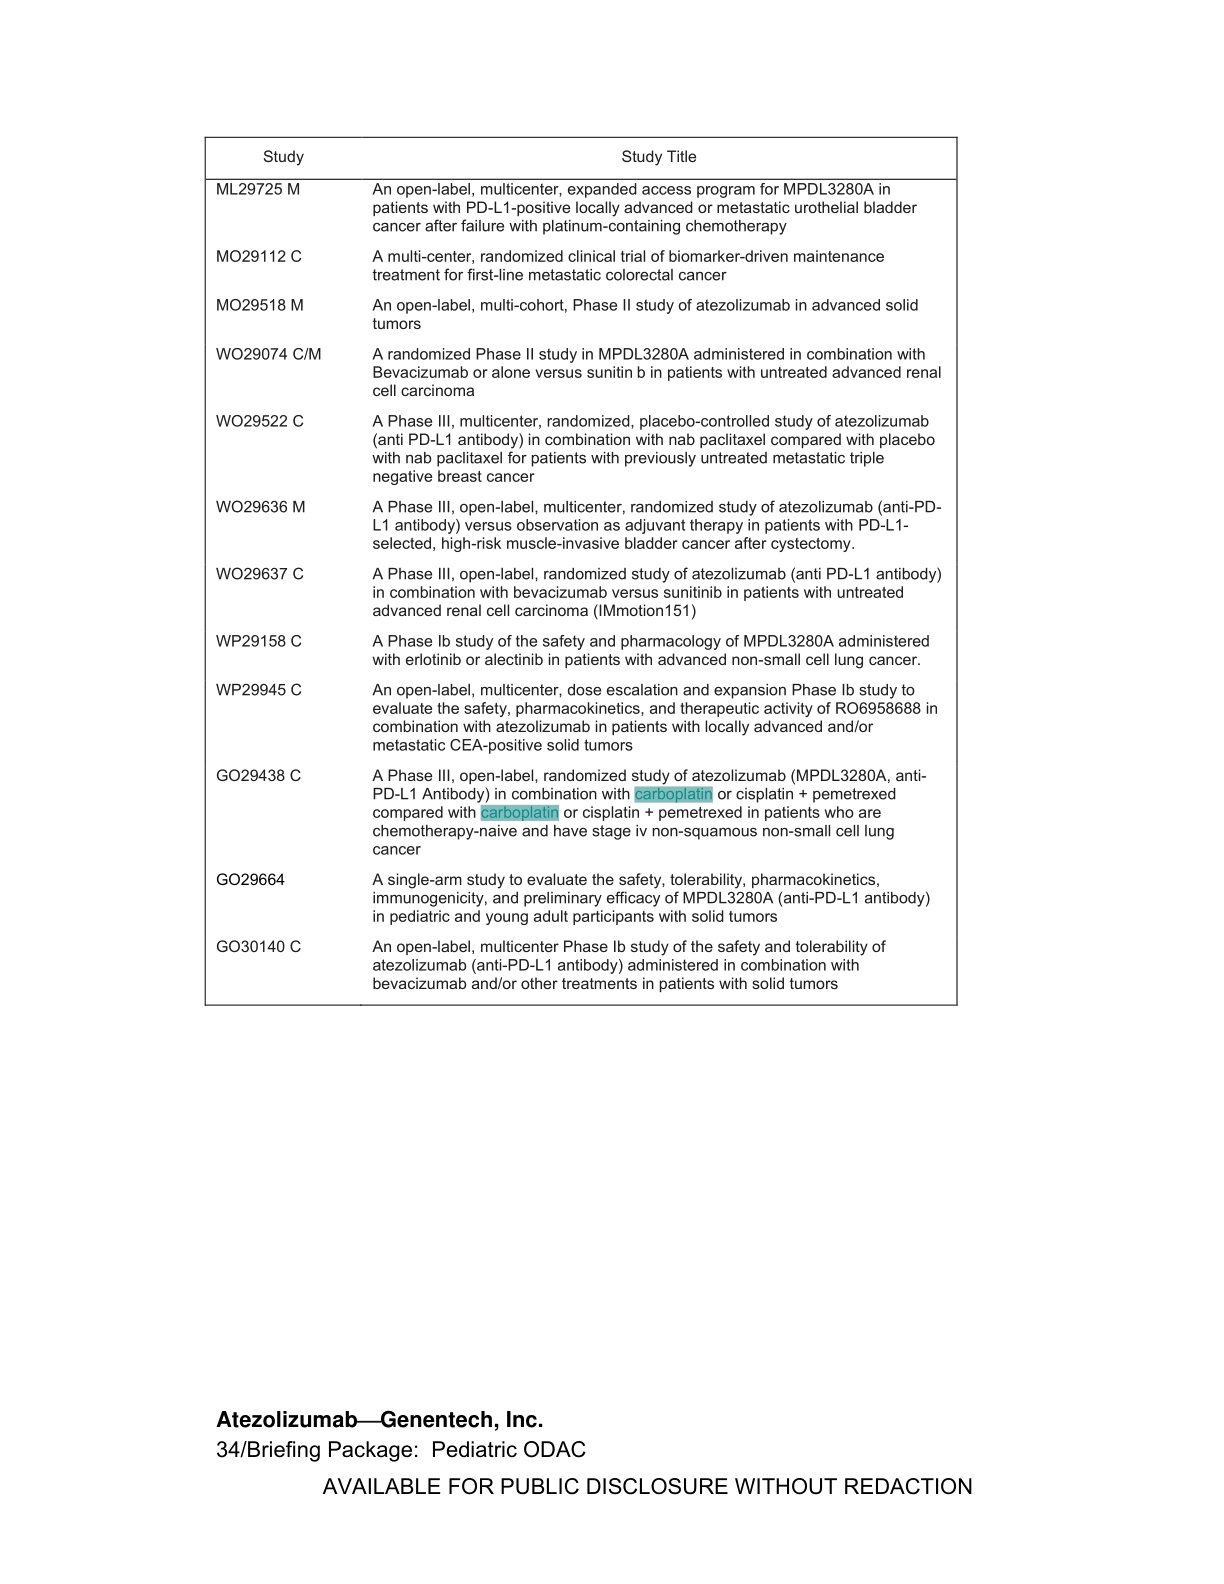partial_lined: (203, 135, 959, 1008)
